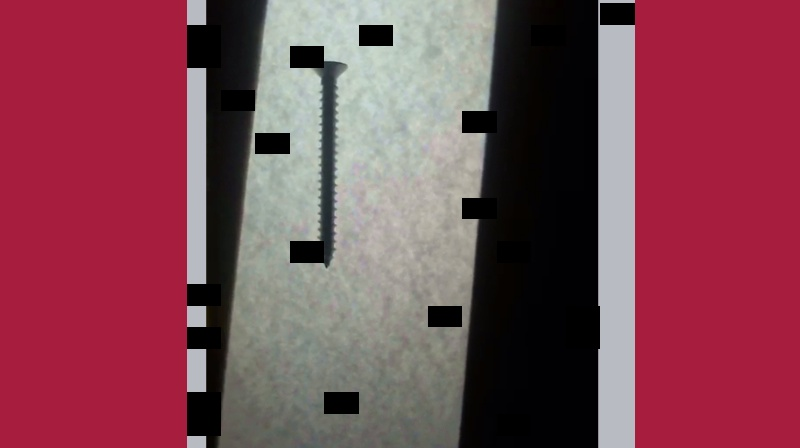S002: (305, 57, 350, 270)
